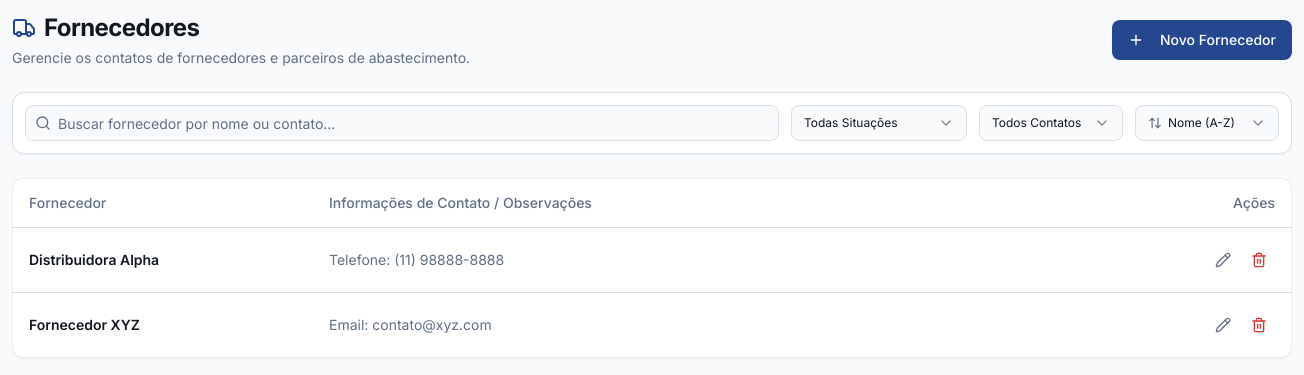
Suppliers CRM Component › deve permitir filtrar fornecedores por busca textual
The width and height of the screenshot is (1304, 375).
Expected: the text "Distribuidora Alpha" is shown, x1=13 y1=227 x2=313 y2=292
Note: Buscar por um nome inexistente
Type "Inexistente" into the search field with placeholder "Buscar fornecedor por nome ou contato..." at (402, 123), box x1=25 y1=105 x2=779 y2=141
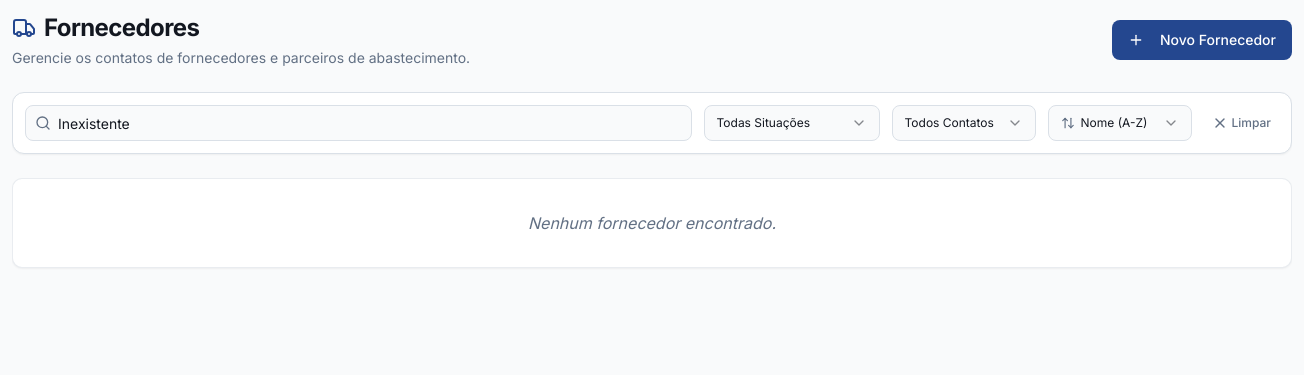
Now the text "Distribuidora Alpha" is gone
Note: Limpar busca
Clear the search field with placeholder "Buscar fornecedor por nome ou contato..." at (358, 123), box x1=25 y1=105 x2=692 y2=141
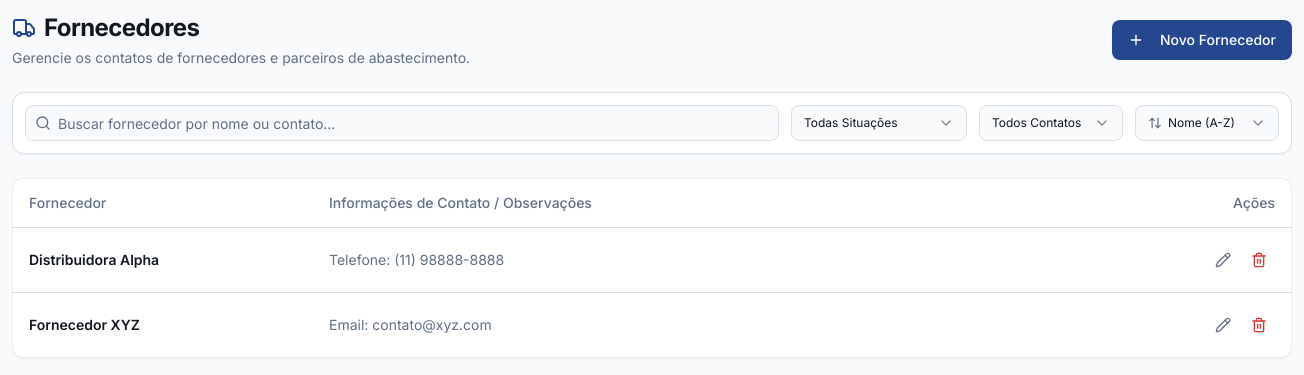
Now the text "Distribuidora Alpha" is shown, box x1=13 y1=227 x2=313 y2=292
